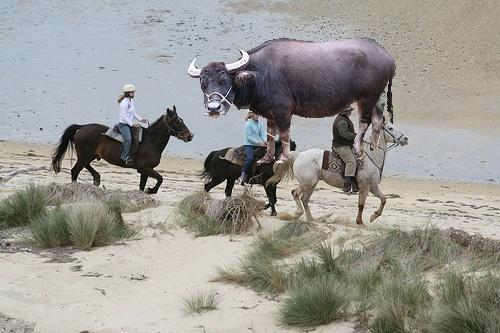tampered: (189, 38, 396, 163)
